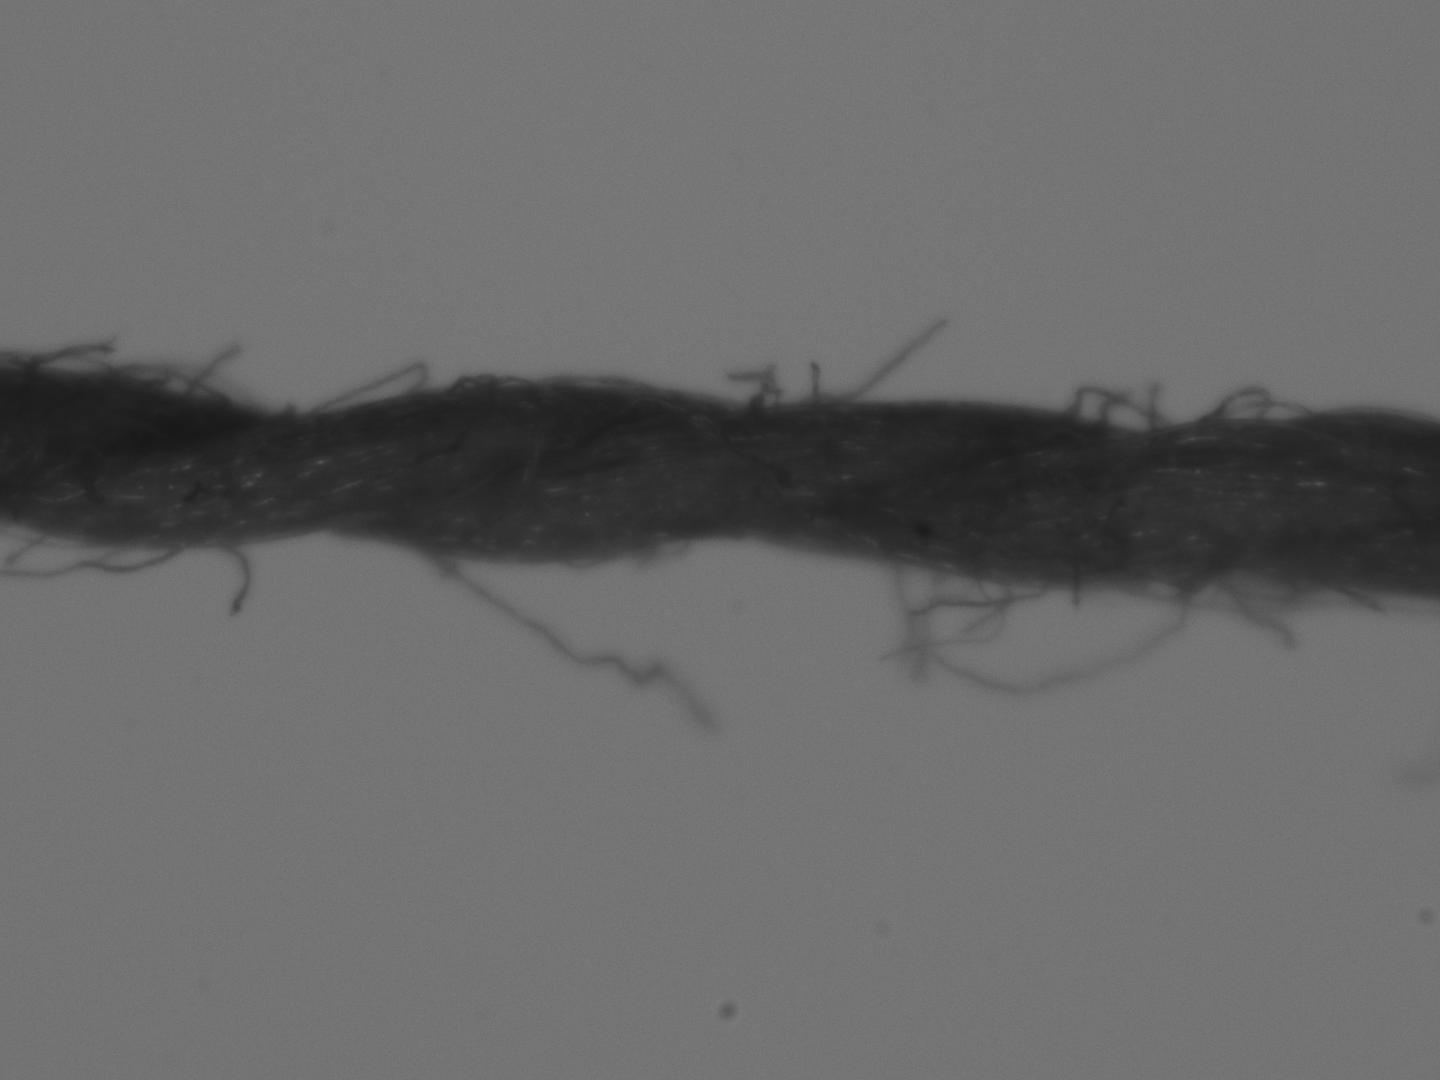loop_fiber: (886, 559, 1191, 701), (5, 345, 268, 419), (1103, 575, 1430, 618), (0, 514, 190, 580), (283, 356, 429, 415), (1060, 379, 1175, 444), (1180, 381, 1327, 429), (721, 363, 786, 408)
protruding_fiber: (399, 541, 714, 732), (829, 314, 948, 407), (176, 339, 246, 399), (202, 533, 249, 617), (805, 353, 821, 408)
